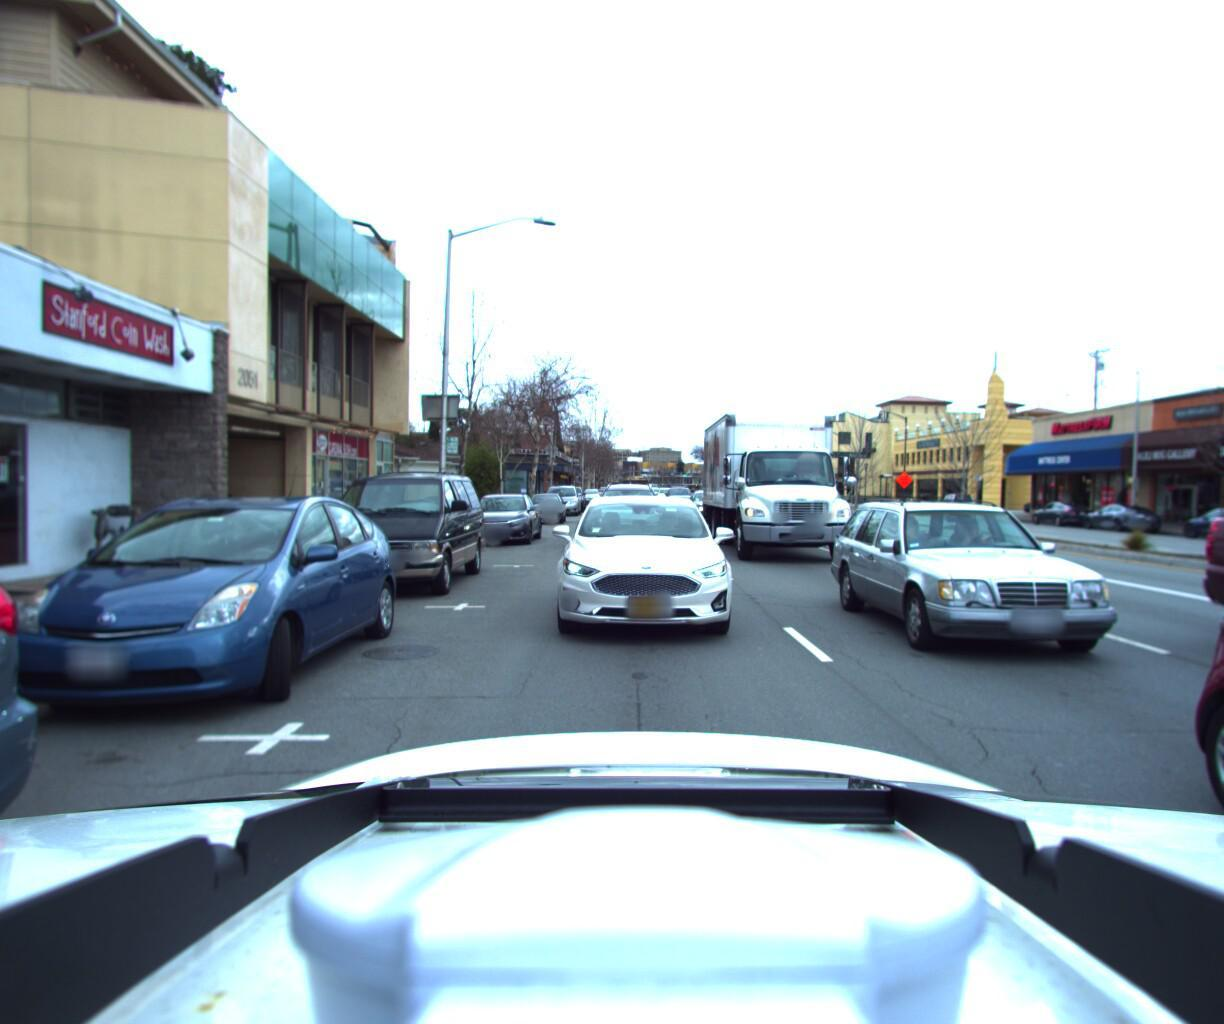car: (0, 484, 401, 748), (812, 486, 1160, 680), (534, 482, 737, 660), (291, 463, 488, 612), (1192, 400, 1224, 1024), (1212, 362, 1224, 920), (584, 486, 660, 562), (458, 496, 539, 556), (1079, 508, 1169, 540), (680, 492, 729, 535), (1174, 514, 1224, 554), (1031, 508, 1096, 534), (522, 497, 564, 532), (540, 490, 579, 524), (932, 497, 976, 527), (659, 494, 690, 522), (650, 495, 674, 517)
truck: (687, 397, 885, 578)
